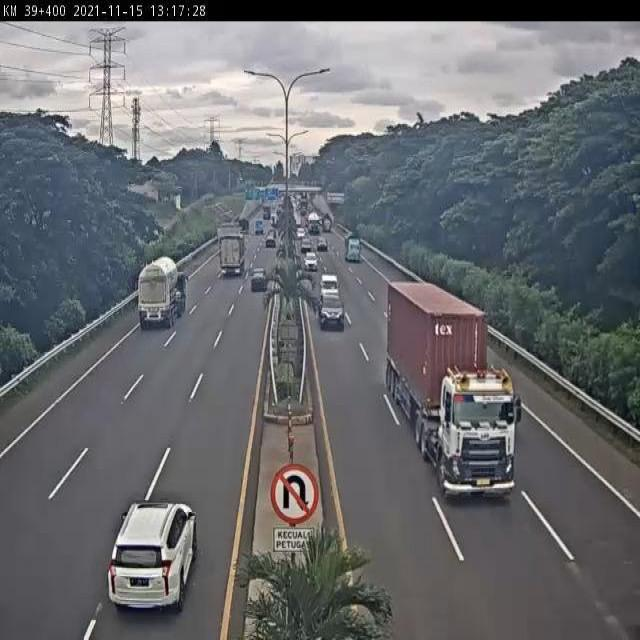car: (107, 500, 197, 617), (317, 290, 346, 334), (318, 271, 341, 308), (249, 265, 268, 295), (303, 249, 319, 275)
truck-xl-: (388, 281, 517, 499), (136, 254, 189, 334), (218, 230, 247, 278)
